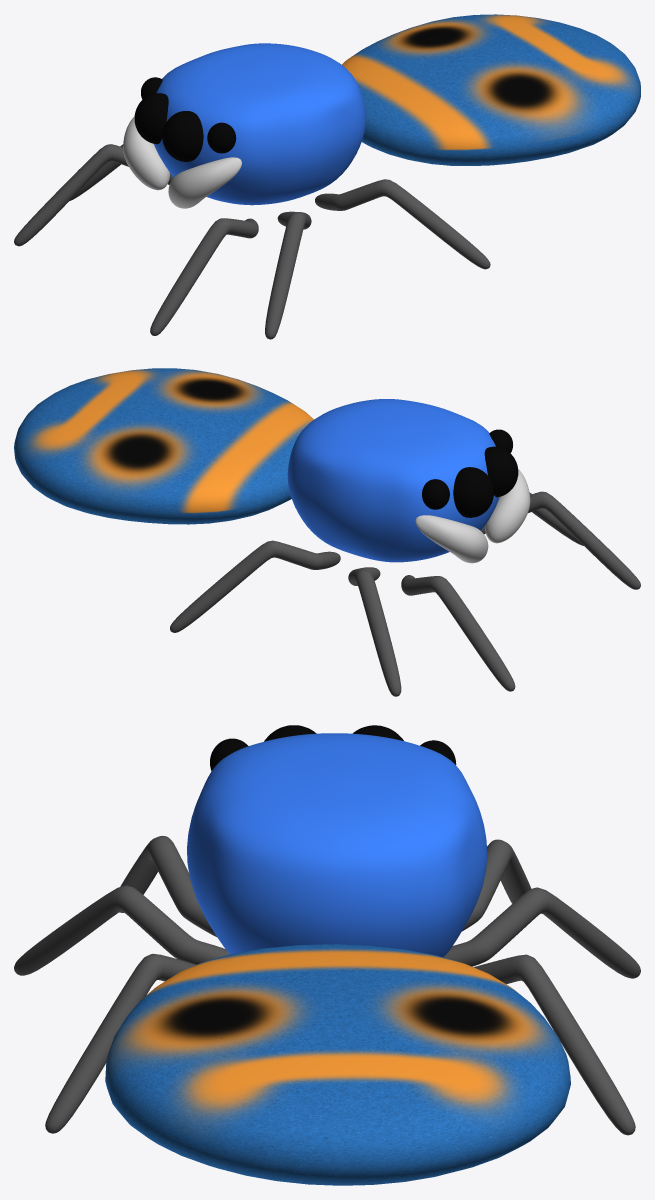
File: Spider76.glb
3 views of the same model, one above another, from view 1: azimuth 30°, elevation 25°; view 2: azimuth 150°, elevation 25°; view 3: azimuth 270°, elevation 25° (orthographic). The views are drawn at different scales.
Parts seen in each view (by area): view 1: Butt, Head, Leg.005, Leg.001, Leg.003, Leg, Pincer.001, Pincer, Eye, Eye.001, Eye.002, Leg.002; view 2: Butt, Head, Leg.004, Leg, Leg.002, Leg.001, Pincer, Pincer.001, Eye.001, Eye, Eye.003, Leg.003; view 3: Butt, Head, Leg.003, Leg.002, Leg.004, Leg.005, Leg.001, Leg.
Part boxes in pixels (x1,y1,x2,y2): Butt: (342,14,640,165); Head: (154,43,365,205); Leg.005: (315,179,490,269); Leg.001: (150,218,258,335); Leg.003: (265,211,311,339); Leg: (14,144,173,246); Pincer.001: (168,157,241,208); Pincer: (123,116,169,190); Eye: (162,111,203,161); Eye.001: (134,93,168,144); Eye.002: (207,122,236,153); Leg.002: (70,144,123,200); Butt: (14,368,313,524); Head: (287,399,499,562); Leg.004: (170,540,340,632); Leg: (401,575,515,691); Leg.002: (348,567,401,696); Leg.001: (481,491,640,589); Pincer: (415,515,488,563); Pincer.001: (485,469,530,543); Eye.001: (453,467,493,517); Eye: (484,446,518,497); Eye.003: (422,479,449,509); Leg.003: (529,492,583,545); Butt: (105,944,570,1185); Head: (187,733,487,957); Leg.003: (14,885,229,975); Leg.002: (444,887,640,978); Leg.004: (474,954,635,1135); Leg.005: (45,953,196,1133); Leg.001: (119,835,216,936); Leg: (462,839,531,931).
Size of the model in its own units: 0.5136 by 0.1619 by 0.331.
5 materials, 1 textured.
